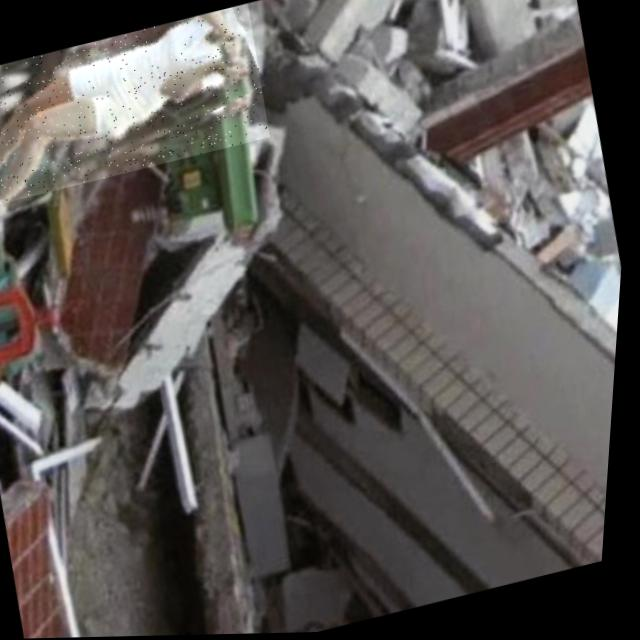Person in Rubble: (0, 3, 278, 214)
